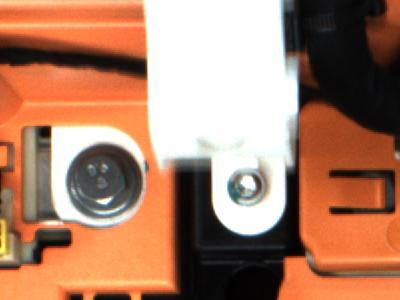nut_b: (61, 138, 151, 220)
